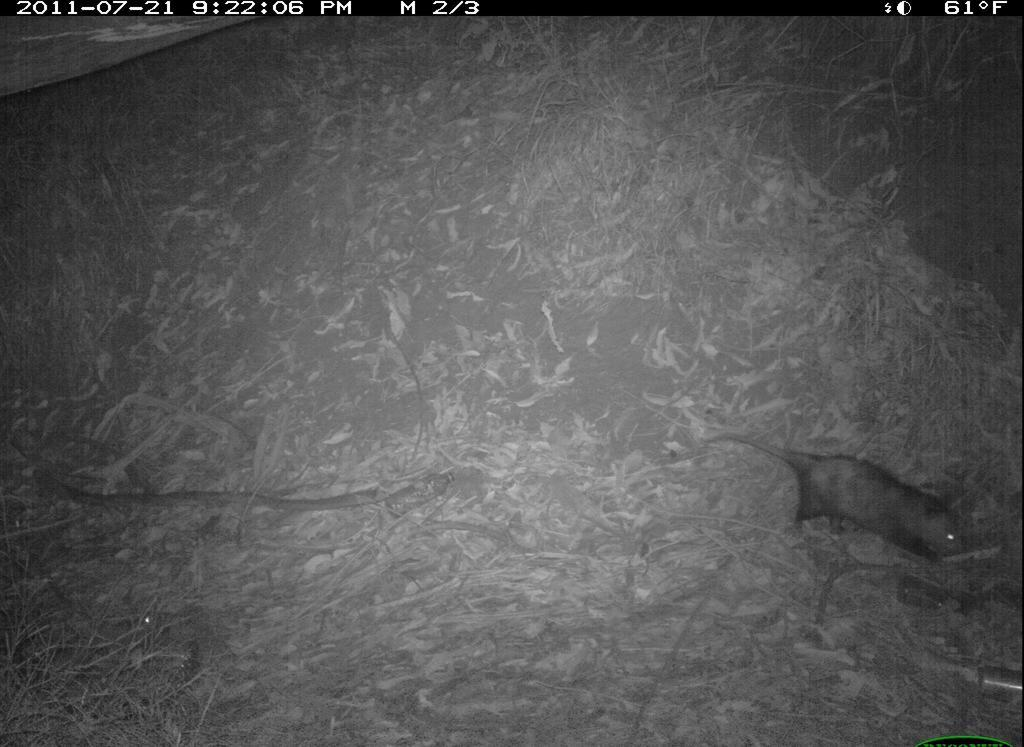opossum: (699, 423, 991, 592)
